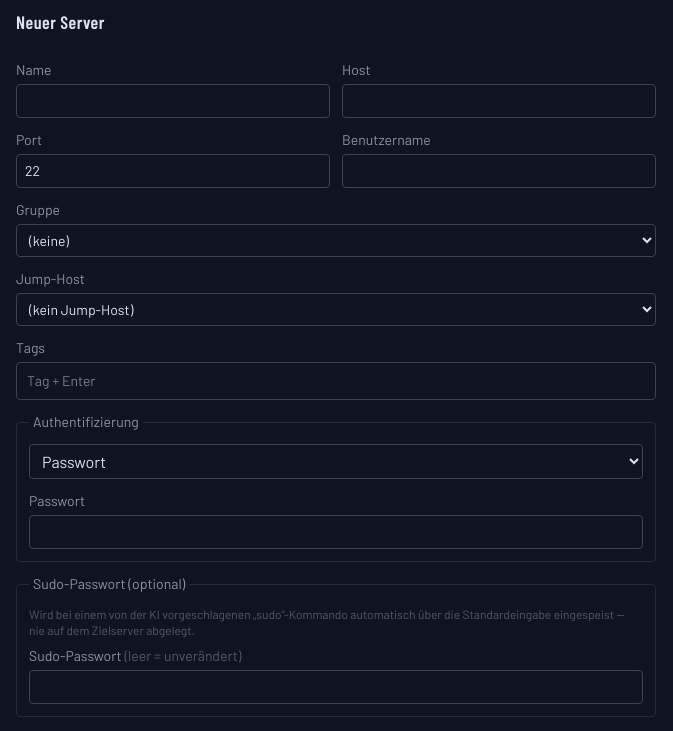
Test: ServerForm — Anmeldeart Schlüsseldatei (Spec 0076, B-1..B-4) › ist im Dropdown wählbar und zeigt danach Pfadfeld + Dateidialog-Knopf (B-1, B-2)
This screenshot has width=673, height=731.
Step 1. Select "Schlüsseldatei" in the 3rd dropdown → [336, 462], box [29, 444, 643, 479]
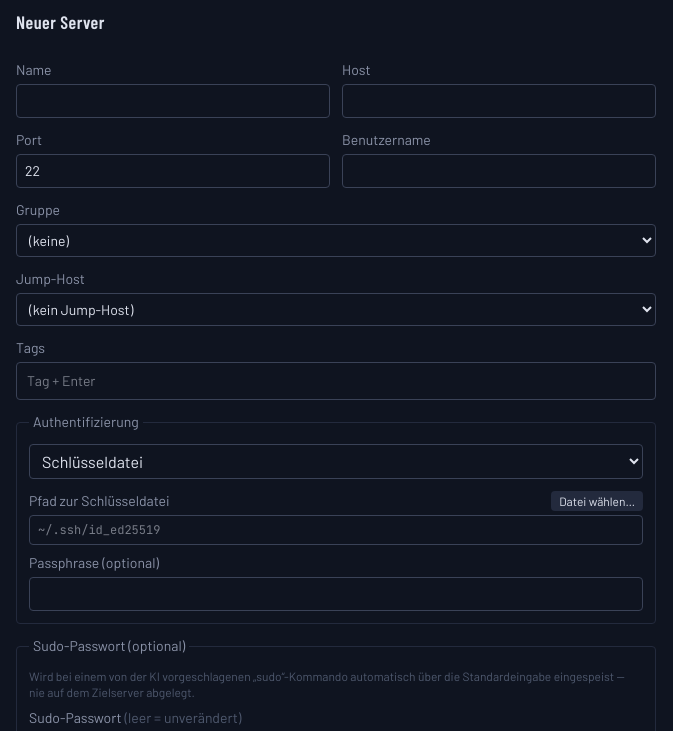
Expected: the field with placeholder "~/.ssh/id_ed25519" is shown, [29, 515, 643, 545]
Expected: the button "Datei wählen…" is shown, [551, 491, 643, 511]
